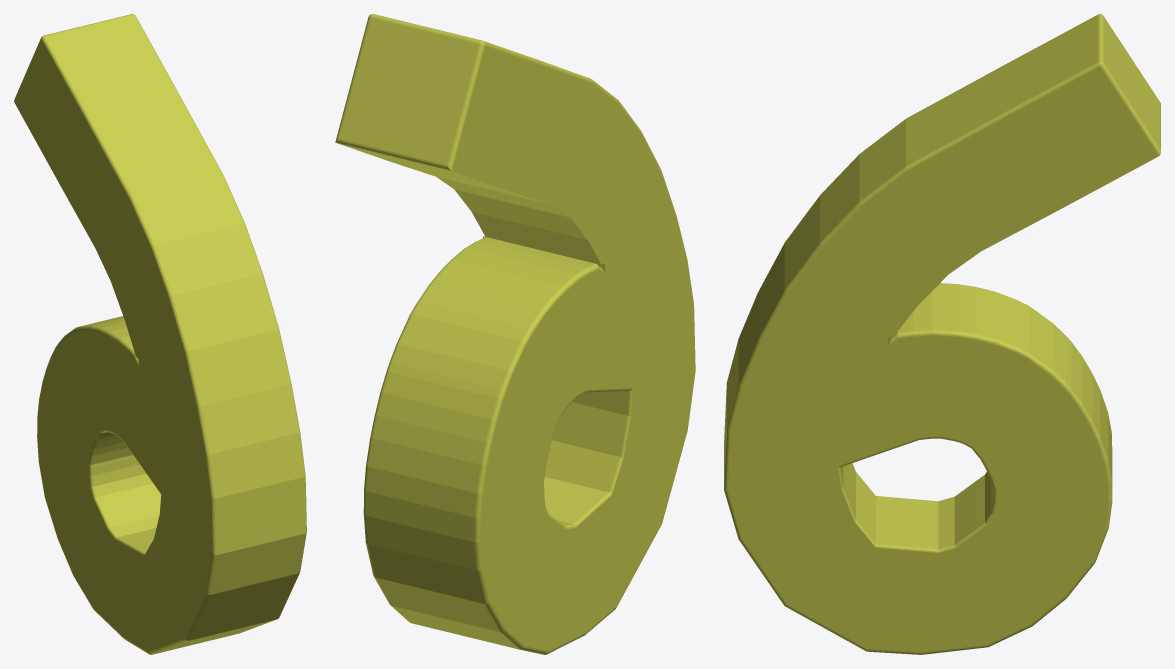
File: numero6.fbx
The picture shows the model from 3 angles, left to right: view 1: azimuth 30°, elevation 25°; view 2: azimuth 150°, elevation 25°; view 3: azimuth 270°, elevation 25°; orthographic projection. The views are drawn at different scales.
Visible parts, largest first — view 1: Cube; view 2: Cube; view 3: Cube.
Boxes of the visible parts, box(x1,y1,x2,y2) form: Cube: box(14, 14, 306, 654); Cube: box(335, 14, 695, 654); Cube: box(724, 14, 1160, 654).
Size of the model in its own units: 200 by 1099 by 733.
